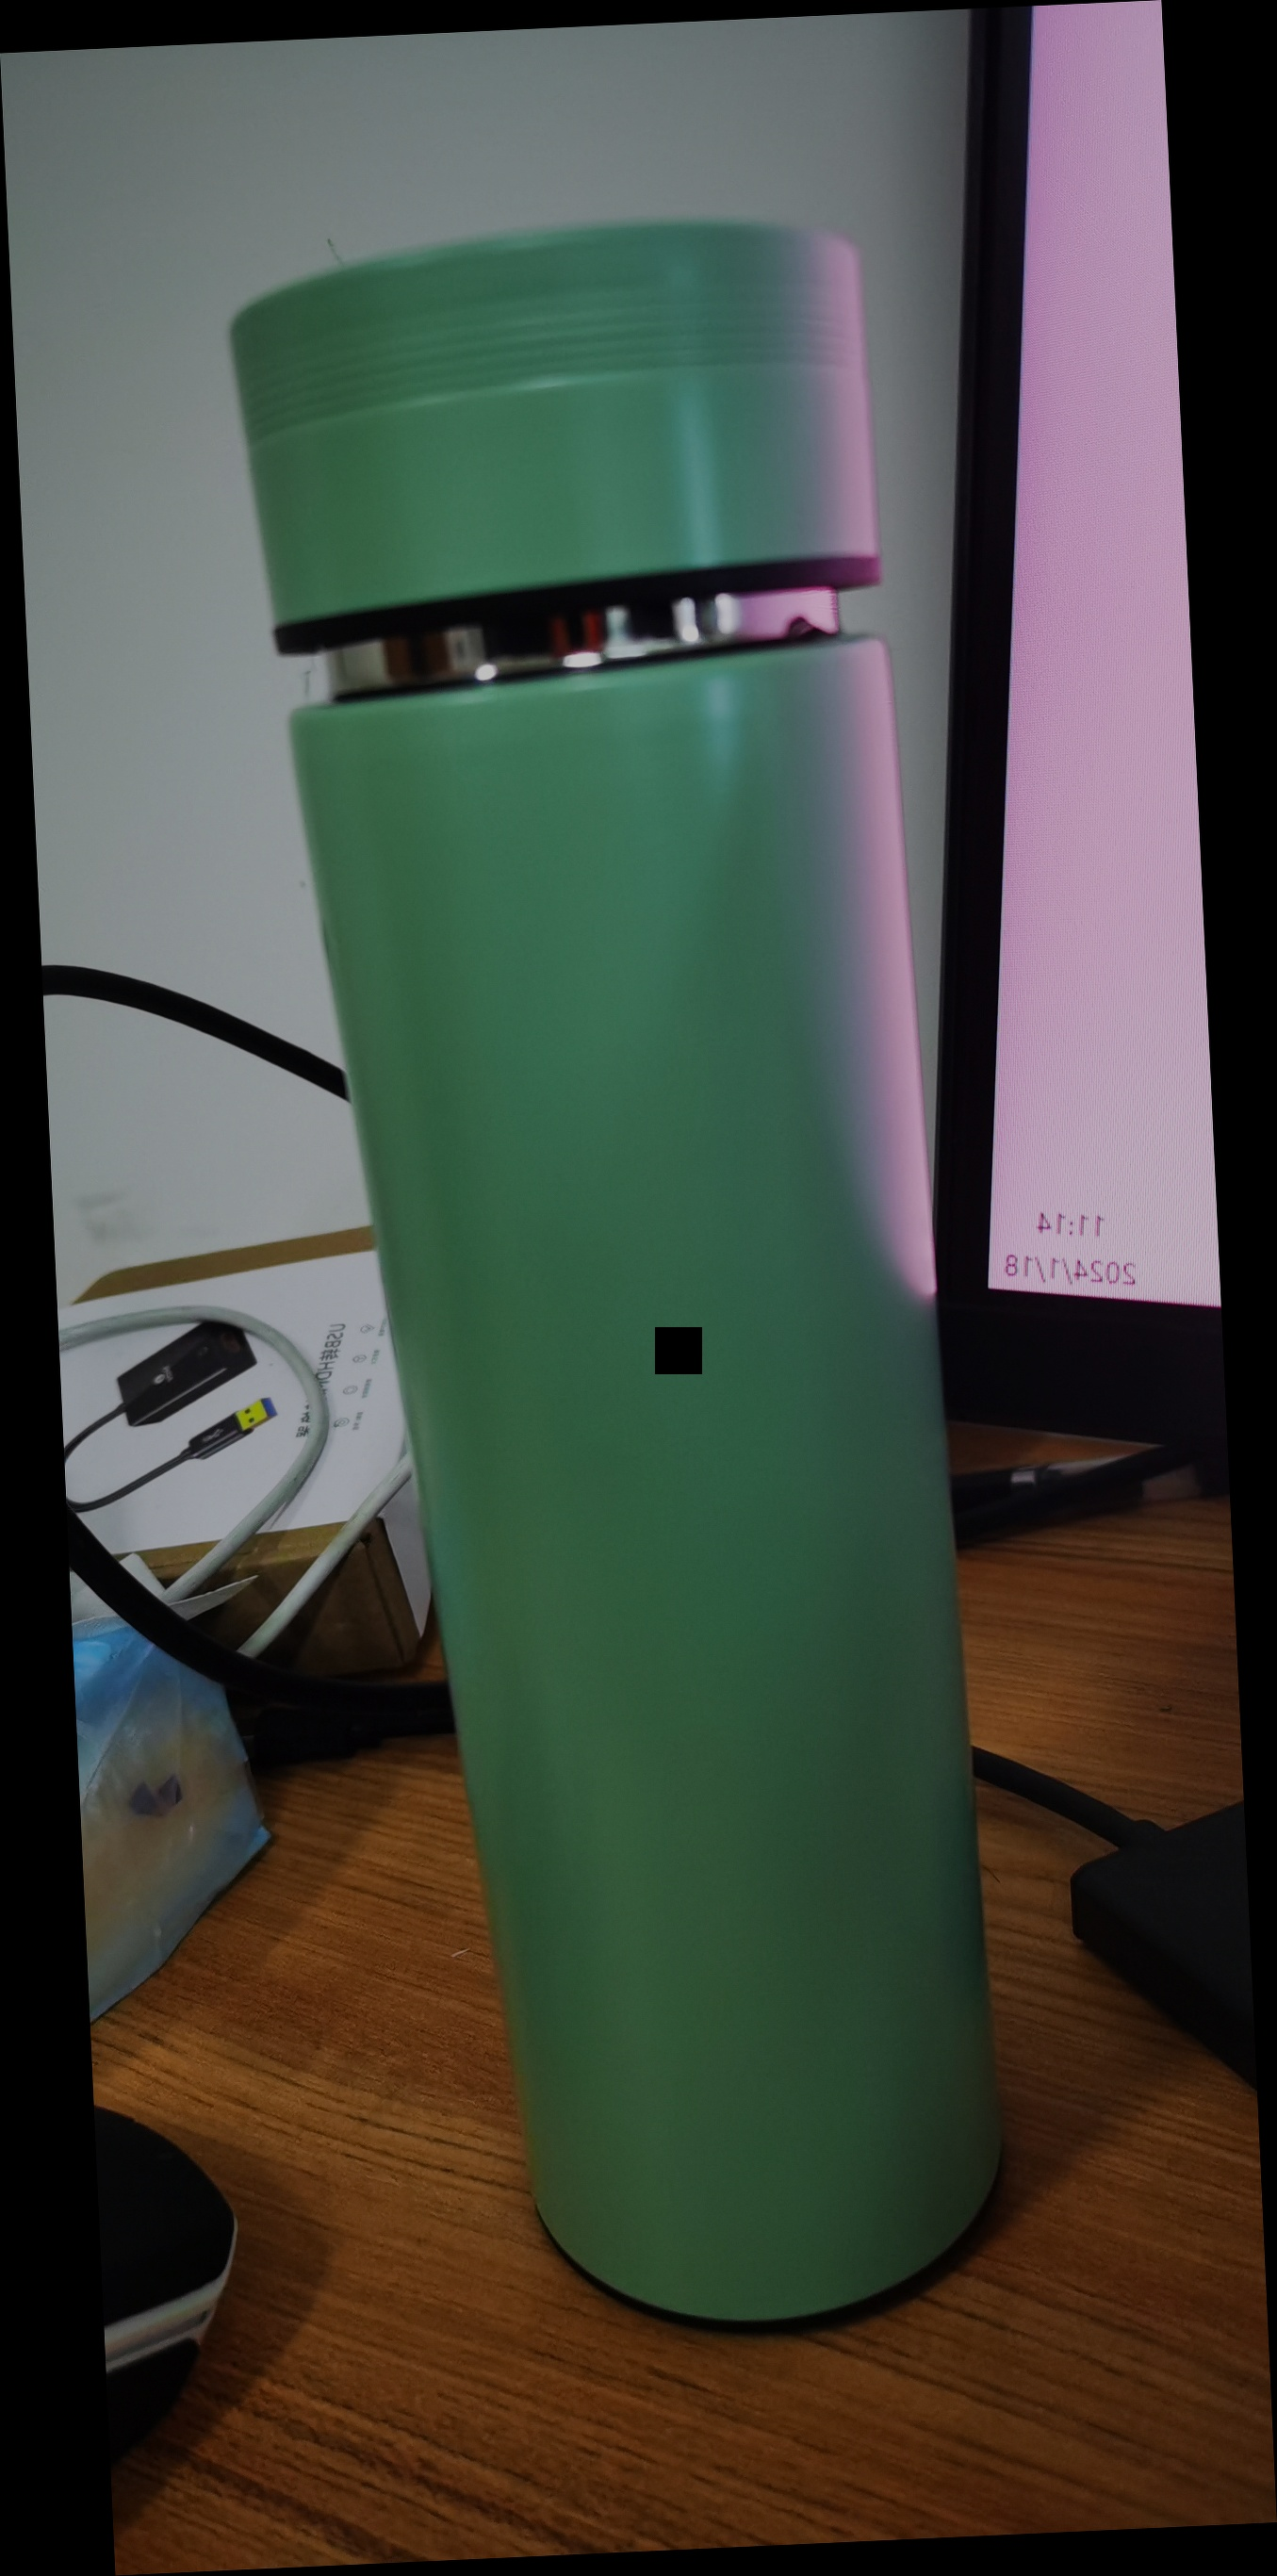cup: (406, 200, 978, 2339)
